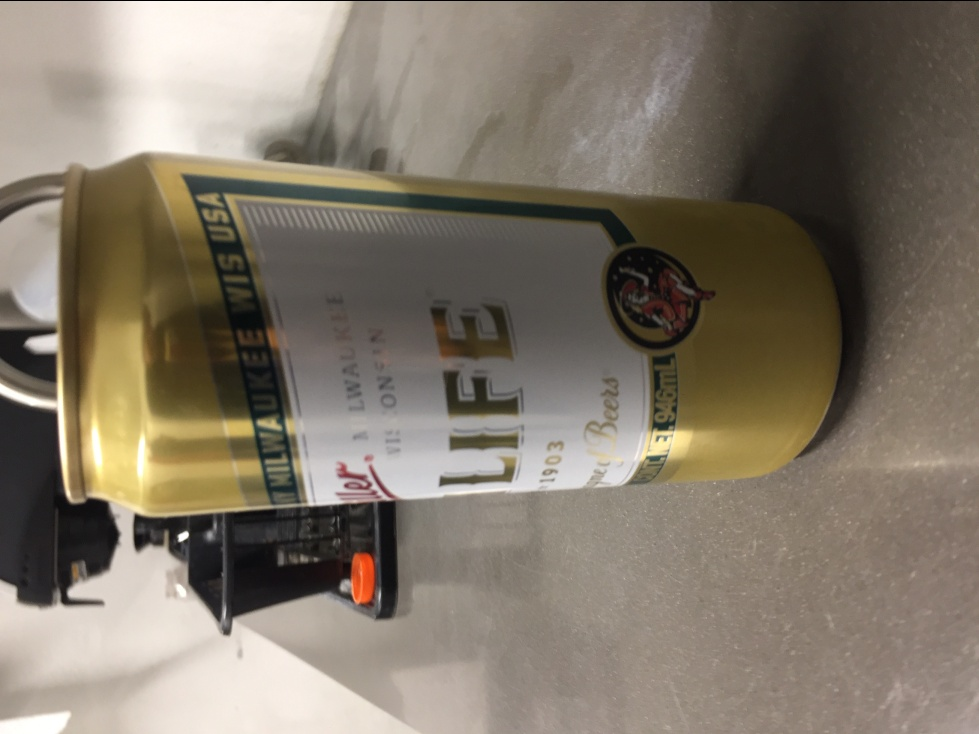miller: (52, 142, 852, 519)
